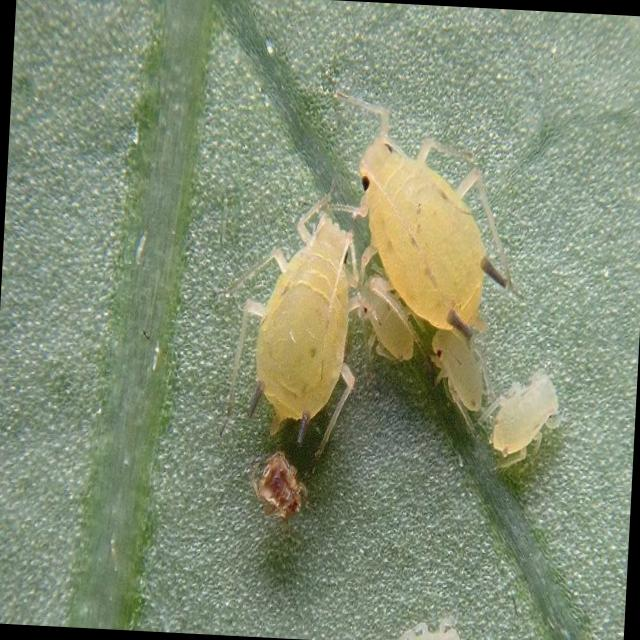Aphid: (227, 195, 383, 452), (347, 105, 505, 322), (476, 367, 572, 477), (419, 319, 502, 436)
